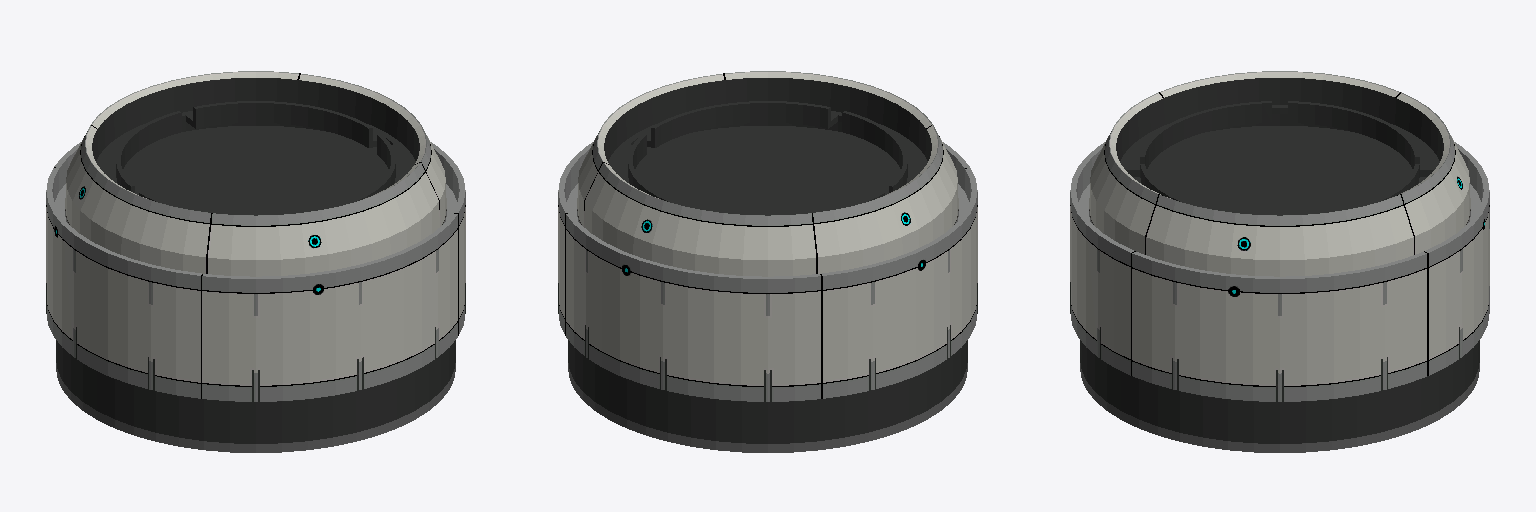
The picture shows the model from 3 angles: view 1: azimuth 30°, elevation 25°; view 2: azimuth 150°, elevation 25°; view 3: azimuth 270°, elevation 25°; orthographic projection.
Parts seen in each view (by area): view 1: item_dropper_model.002; view 2: item_dropper_model.002; view 3: item_dropper_model.002.
Boxes of the visible parts, x1,y1,x2,y2 form: item_dropper_model.002: [46, 71, 465, 452]; item_dropper_model.002: [558, 71, 977, 452]; item_dropper_model.002: [1070, 71, 1489, 452].
Bounding box in the file's own units: 1.19 × 0.7047 × 1.19.
Materials: 1 (1 with a texture image).